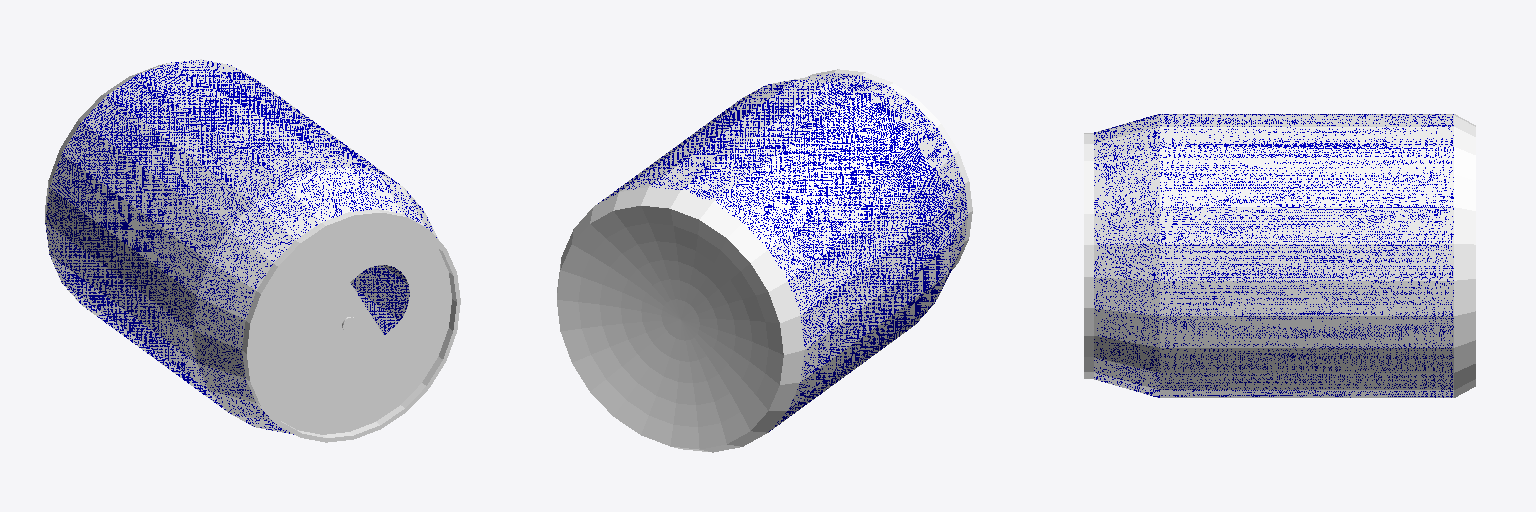
The model's file is model_align.obj.
3 renders of one model, left to right at view 1: azimuth 30°, elevation 25°; view 2: azimuth 150°, elevation 25°; view 3: azimuth 270°, elevation 25°, orthographic.
Size of the model in its own units: 0.0872 by 0.0872 by 0.1194.